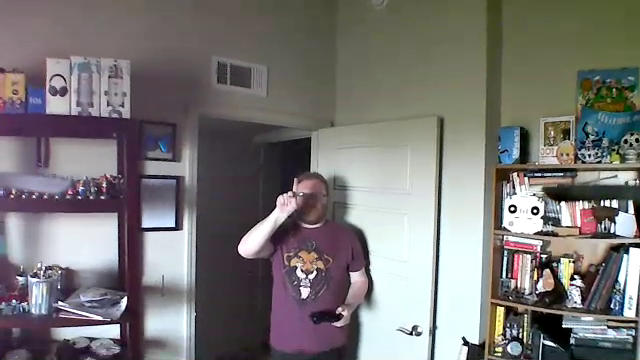up: (277, 174, 307, 219)
